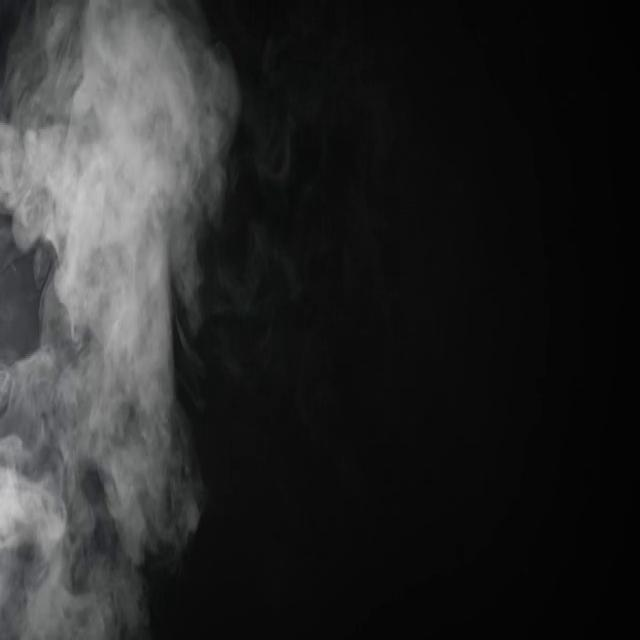smoke: (106, 2, 236, 238), (3, 444, 156, 640), (0, 0, 114, 252), (3, 217, 117, 462), (118, 218, 204, 452), (224, 30, 308, 192), (158, 432, 210, 567)
